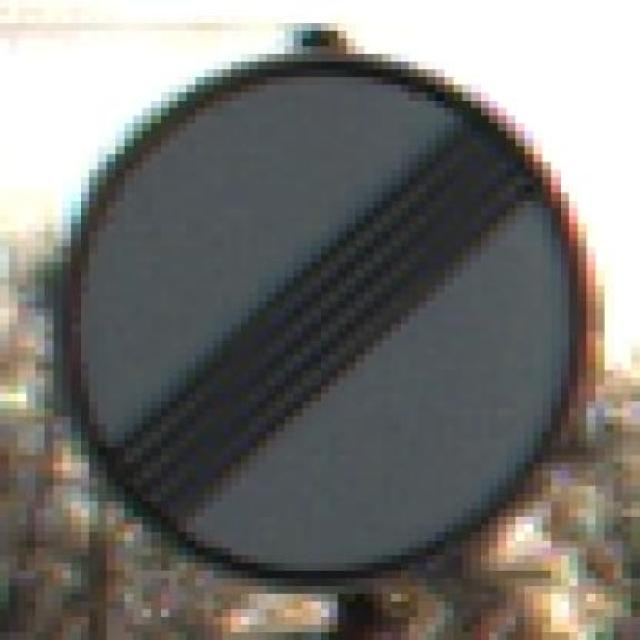End of all speed and passing limits: (36, 54, 596, 594)
